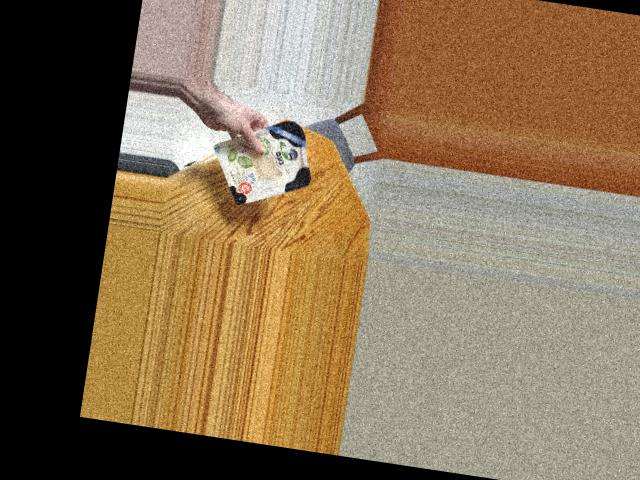cheese: (216, 106, 320, 210)
